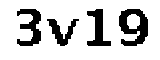1: (81, 7, 117, 53)
3: (12, 4, 43, 47)
9: (114, 6, 153, 51)
v: (45, 16, 81, 49)
